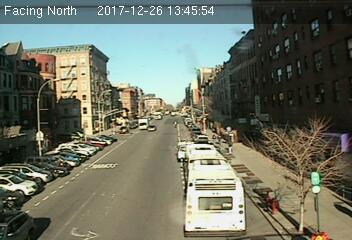bus: (183, 144, 248, 235)
car: (146, 124, 156, 132)
